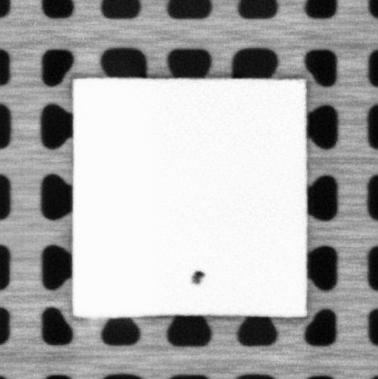DIE_INK: (189, 268, 205, 286)
